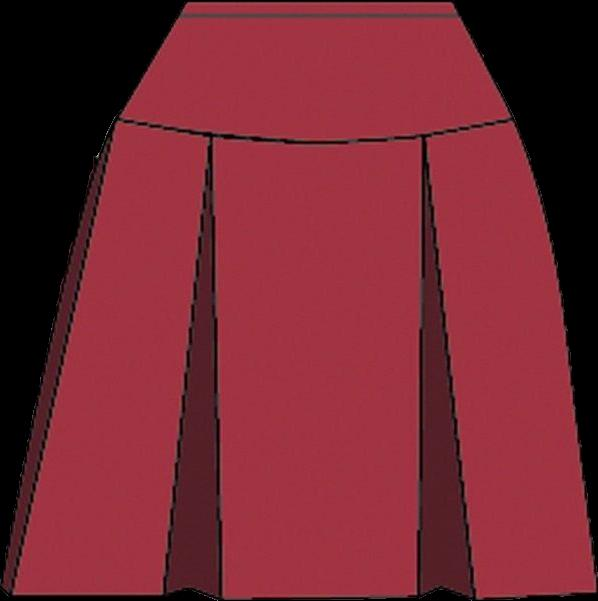Hemline: (0, 581, 597, 600)
Waistline: (115, 114, 509, 146), (184, 0, 452, 9)
